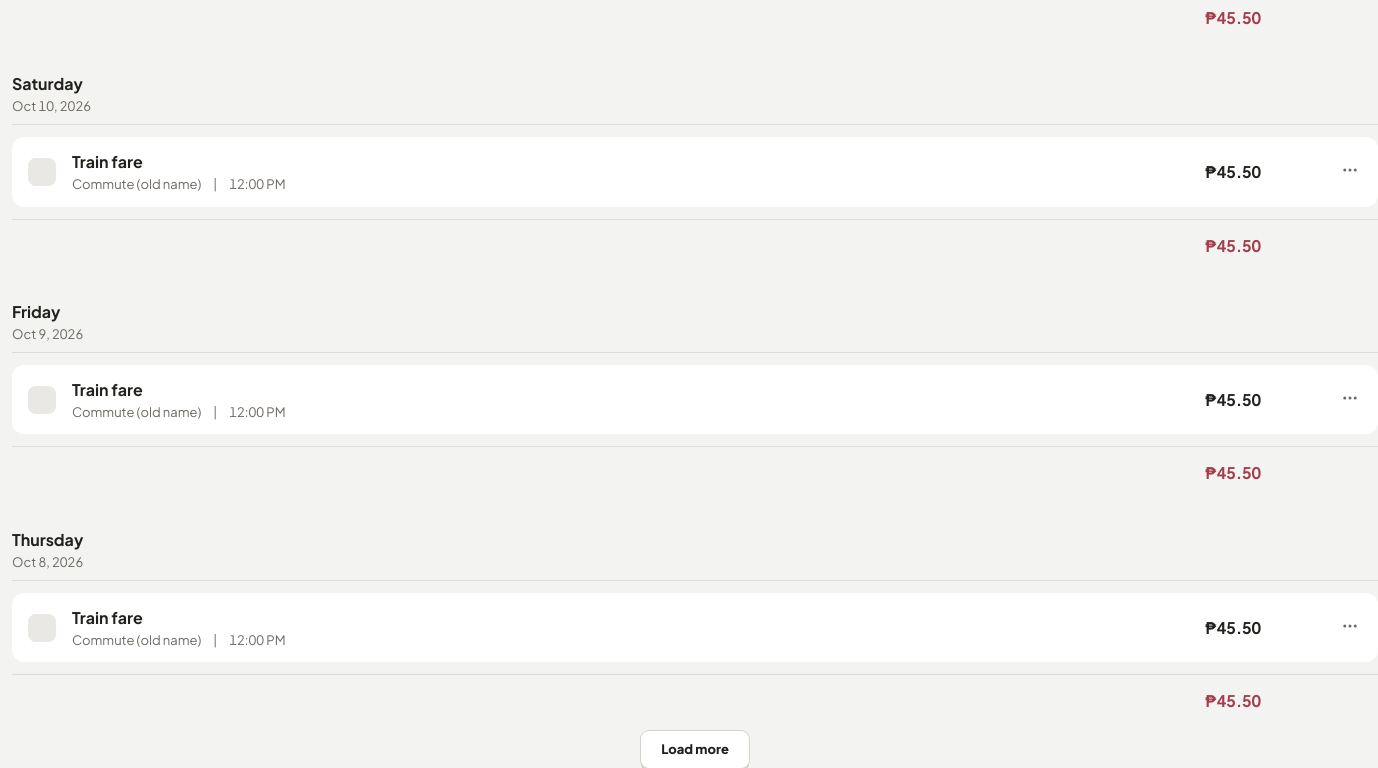
Test: ExpenseHistory › shows 5 days at first and 5 more per load more
(page scrolled)
Step 1. Click the button "Load more" → coordinates (695, 749), box [641,731,749,767]
(page scrolled)
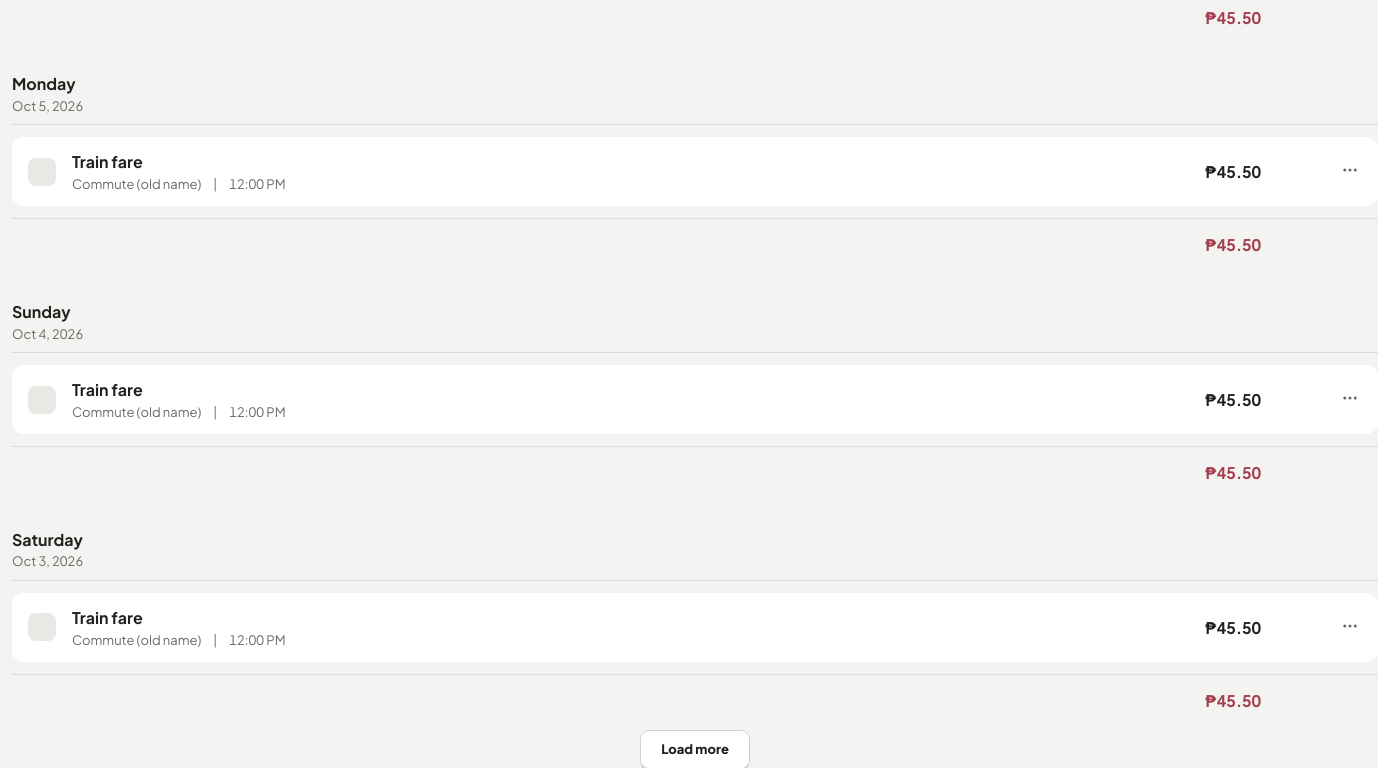
Step 2. Click the button "Load more" → coordinates (695, 749), box [641,731,749,767]
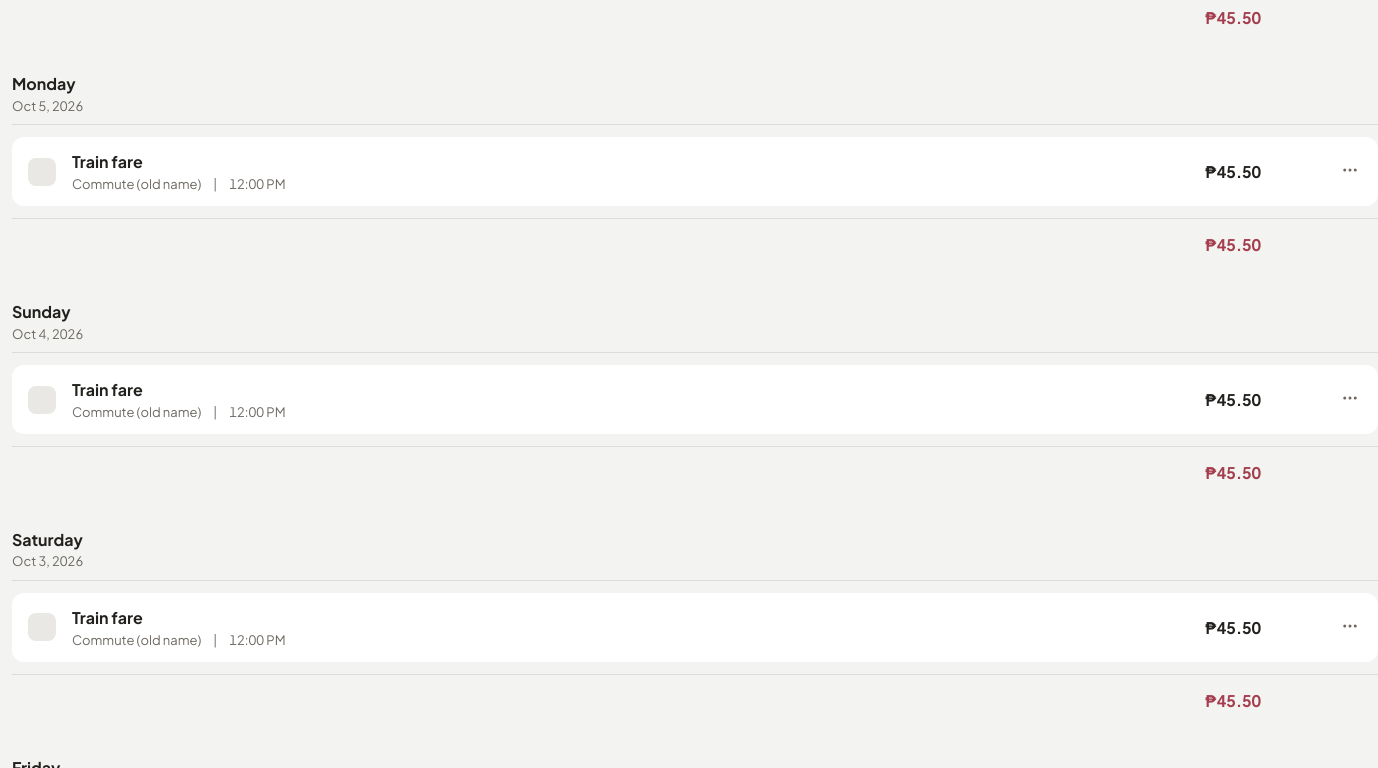
Expected: the button "Load more" is gone
